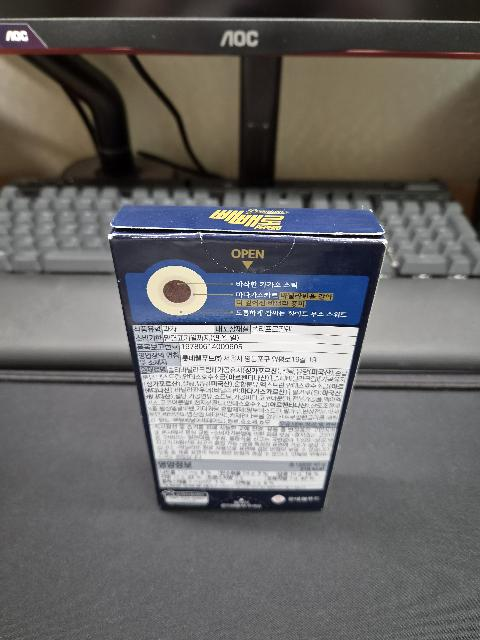pepero: (108, 204, 388, 511)
